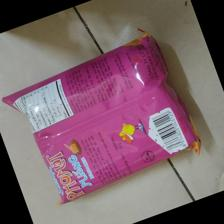Oishi_phomat: (2, 26, 203, 204)
